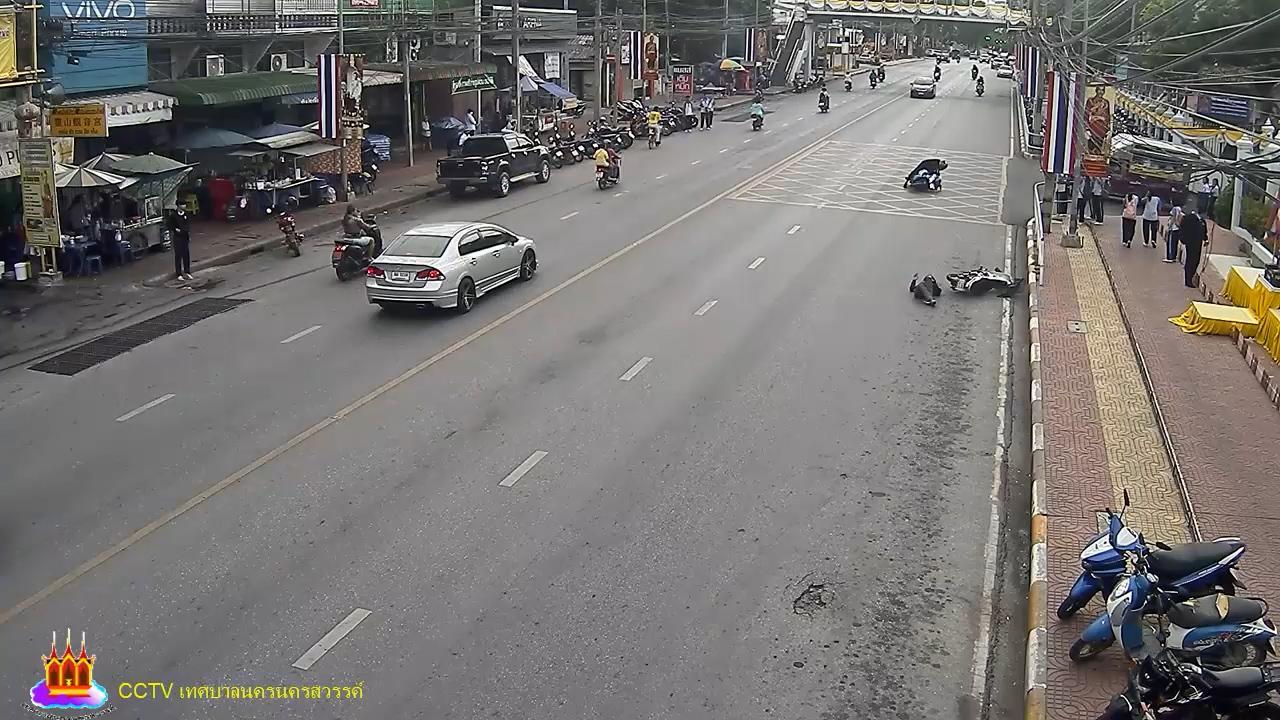accident: (909, 271, 943, 308)
